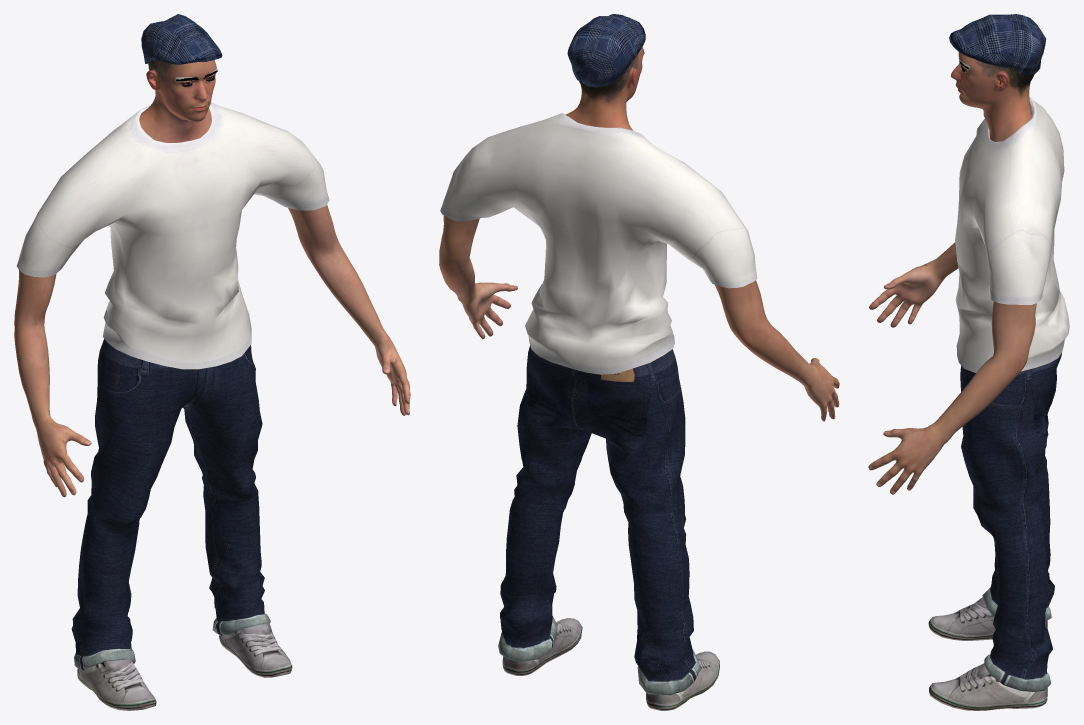
Rendered from william.glb.
3 renders of one model, left to right at view 1: azimuth 30°, elevation 25°; view 2: azimuth 150°, elevation 25°; view 3: azimuth 270°, elevation 25°, orthographic.
Parts seen in each view (by area): view 1: tshirt1, jean1, will, shoes1, gubbkeps1; view 2: tshirt1, jean1, will, gubbkeps1, shoes1; view 3: tshirt1, jean1, will, shoes1, gubbkeps1.
Part boxes in pixels (left/top/right/bottom): tshirt1: left=16, top=102, right=329, bottom=369; jean1: left=71, top=339, right=270, bottom=670; will: left=14, top=60, right=410, bottom=497; shoes1: left=77, top=622, right=292, bottom=710; gubbkeps1: left=141, top=14, right=222, bottom=64; tshirt1: left=440, top=113, right=757, bottom=374; jean1: left=498, top=345, right=700, bottom=695; will: left=439, top=47, right=839, bottom=421; gubbkeps1: left=567, top=14, right=645, bottom=87; shoes1: left=502, top=618, right=719, bottom=710; tshirt1: left=955, top=96, right=1069, bottom=372; jean1: left=960, top=353, right=1061, bottom=691; will: left=868, top=52, right=1036, bottom=494; shoes1: left=928, top=597, right=1047, bottom=710; gubbkeps1: left=949, top=14, right=1046, bottom=74.
Bounding box in the file's own units: 1.01 × 1.77 × 0.4948.
Materials: 8 (8 with a texture image).
